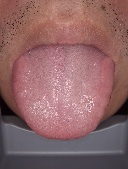tongue: (11, 56, 115, 142)
